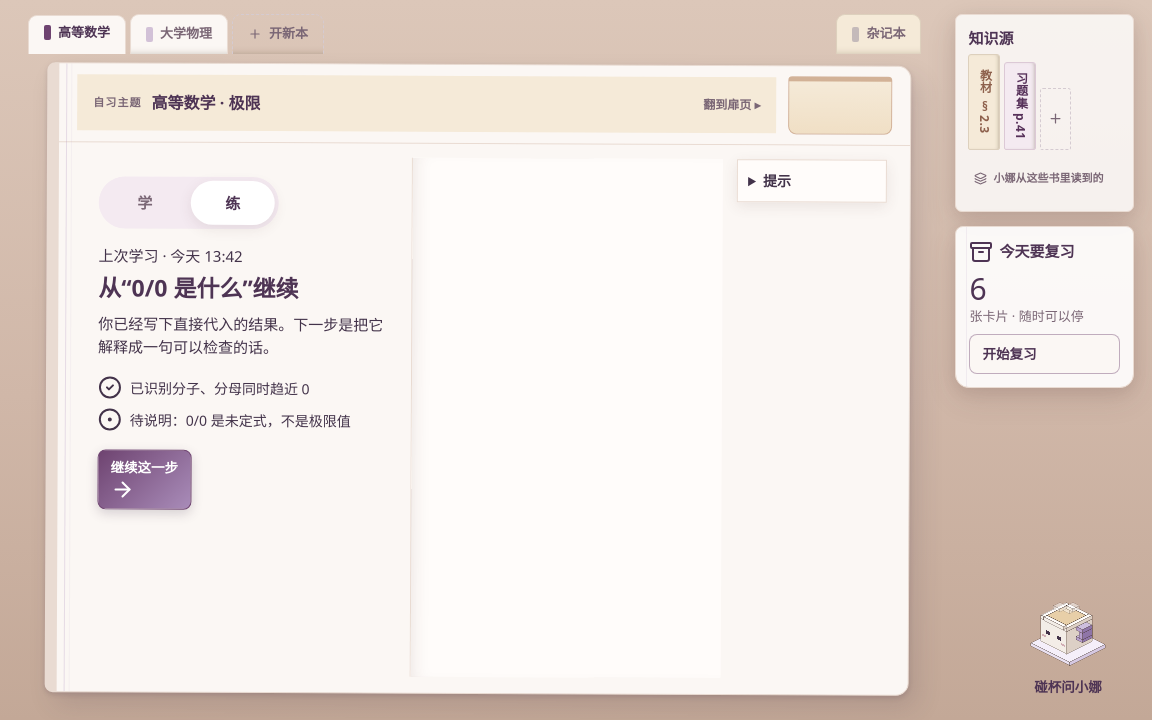
Test: DeskScene FE-01 preview › restores the exact checked state and Nana annotation after the desk reloads
Click the button "继续这一步". click: (144, 480)
box: [97,449,191,510]
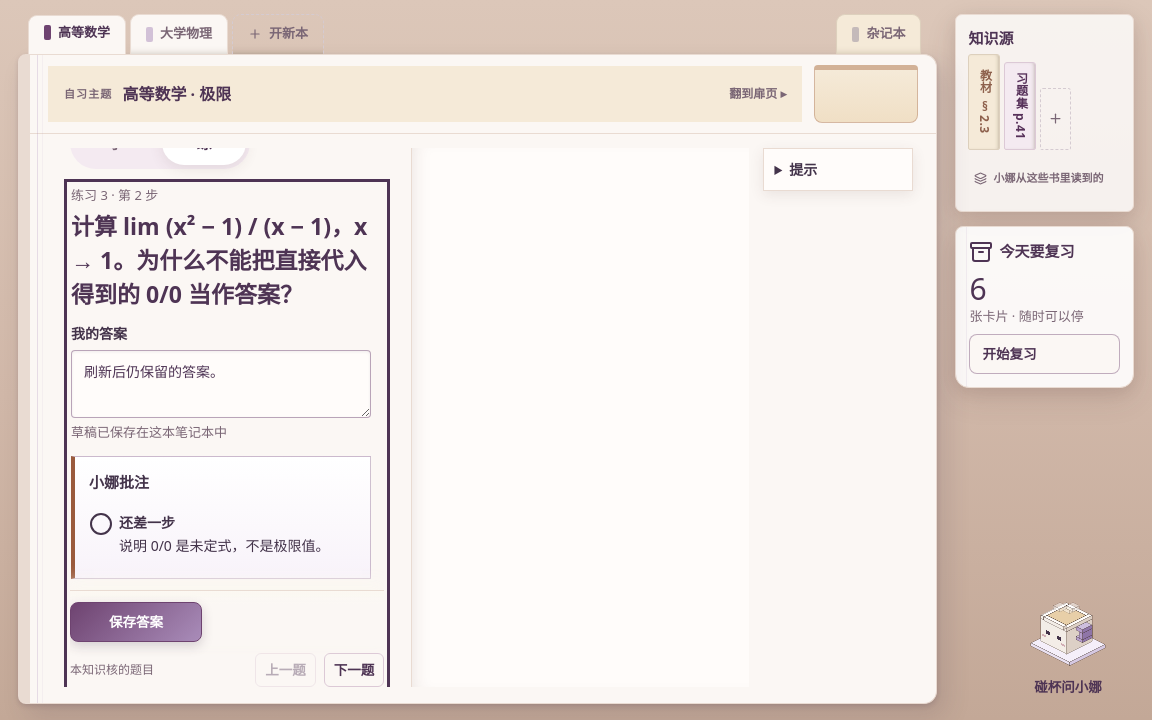
Result: the text box named "我的答案" holds "刷新后仍保留的答案。" at [71,350,371,418]
Result: the element named "小娜批注：还差一步" is shown at [71,456,371,579]
Result: the button "保存答案" is shown at [70,602,202,642]
